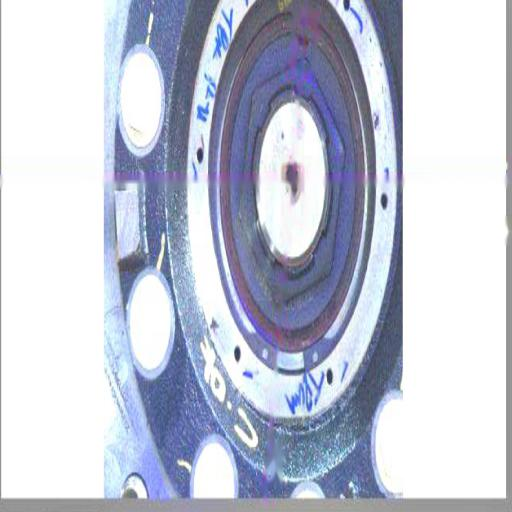center: (286, 166, 302, 204)
notch: (292, 30, 313, 53)
